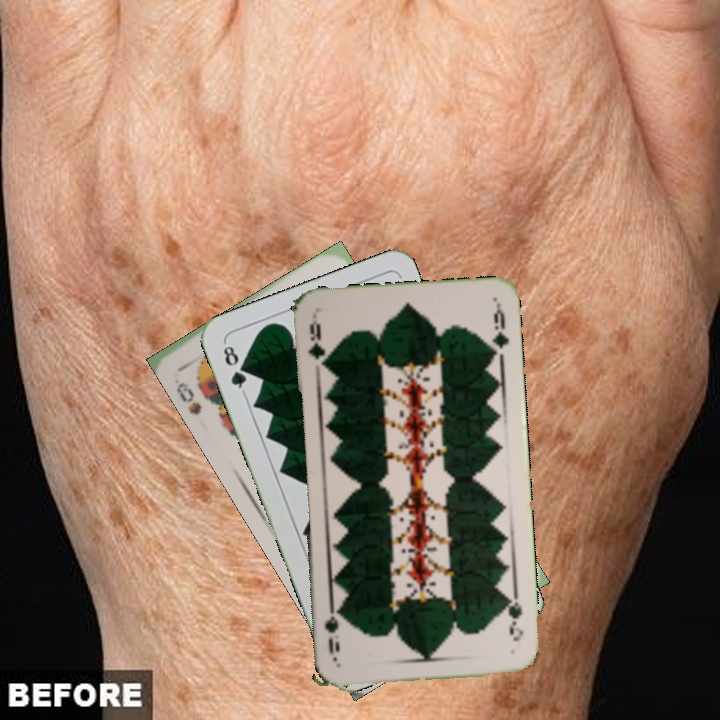G8: (219, 338, 249, 396)
G9: (304, 316, 329, 371), (502, 591, 526, 644)
S8: (172, 378, 204, 418)
